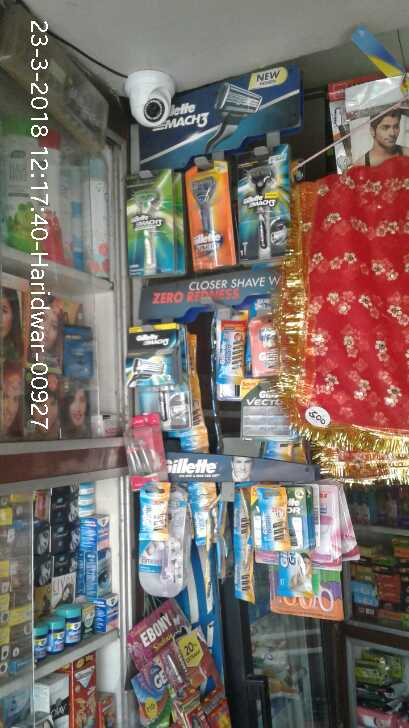beauty: (123, 166, 181, 274), (184, 161, 238, 263), (238, 157, 292, 258), (128, 324, 184, 394), (249, 483, 294, 545), (214, 322, 248, 381), (185, 480, 216, 542), (136, 485, 173, 536)
pharmacy: (80, 512, 110, 553), (96, 596, 122, 632), (49, 615, 67, 658), (64, 608, 82, 646), (33, 624, 48, 660)
